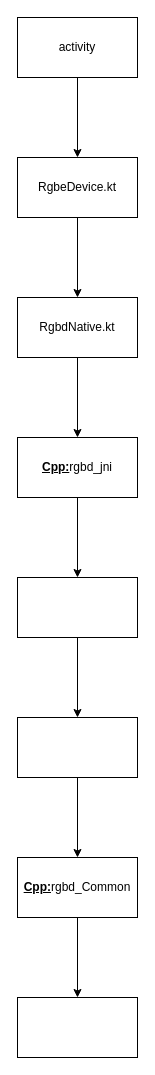
The diagram is 155 pixels wide and 1075 high, and some of its shapes have lost their labels. The shapes that lost their labels are listed below. From the top down, each one's centre as x and y in pixels, then its label:
pixel 77 607: Cpp: rgbd_device
pixel 77 747: Cpp: rgbd_interface
pixel 77 1027: Cpp: rgbd_orbbec
